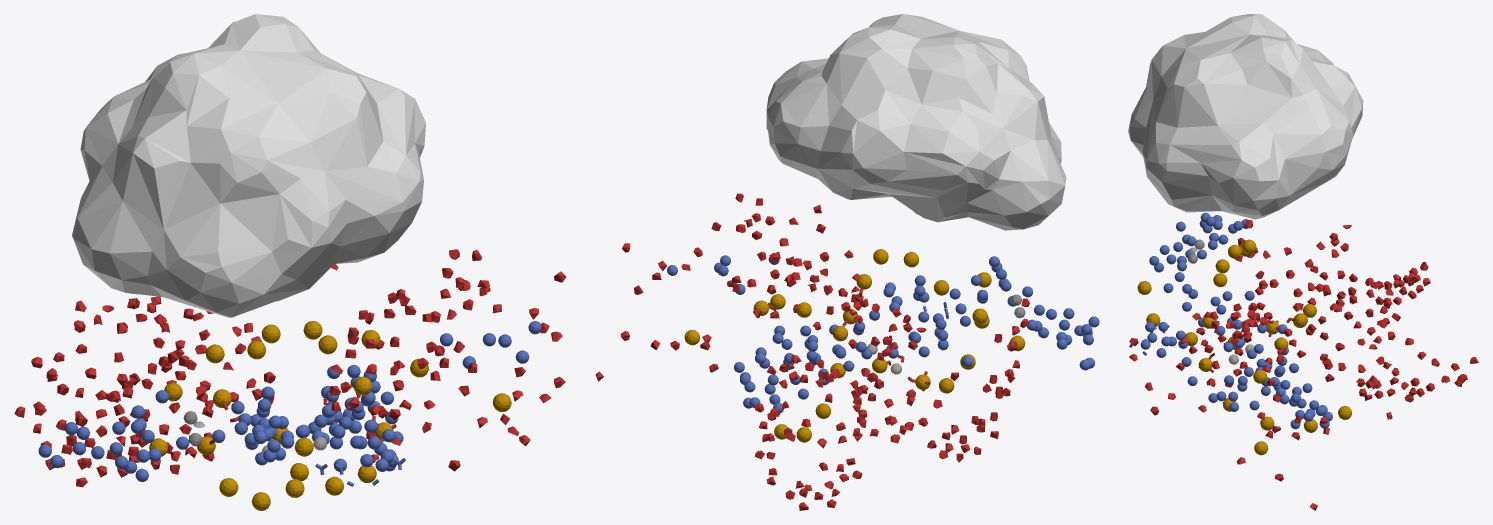
File: gas.fbx
The picture shows the model from 3 angles, left to right: view 1: azimuth 30°, elevation 25°; view 2: azimuth 150°, elevation 25°; view 3: azimuth 270°, elevation 25°; orthographic projection. The views are drawn at different scales.
Parts seen in each view (by area): view 1: node_id3, node_id132 (×2); view 2: node_id3, node_id132 (×2); view 3: node_id3, node_id132 (×2).
Part boxes in pixels (x1,y1,x2,y2): node_id3: (72,14,425,317); node_id132 (×2): (14,249,566,487); node_id3: (766,14,1066,230); node_id132 (×2): (595,193,1029,510); node_id3: (1128,14,1363,219); node_id132 (×2): (1129,220,1478,510).
Size of the model in its own units: 0.00901 by 0.00776 by 0.0066.
